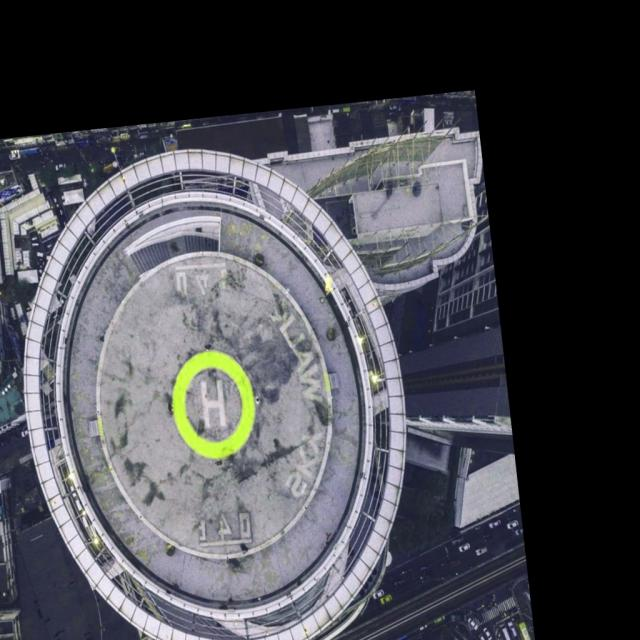helipad: (168, 344, 258, 462)
